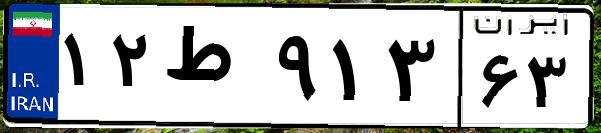1: (330, 28, 385, 110), (57, 26, 110, 100)
2: (110, 28, 158, 98)
3: (385, 28, 445, 110), (525, 38, 570, 115)
6: (475, 38, 525, 113)
9: (270, 28, 330, 110)
ط: (158, 20, 270, 120)
